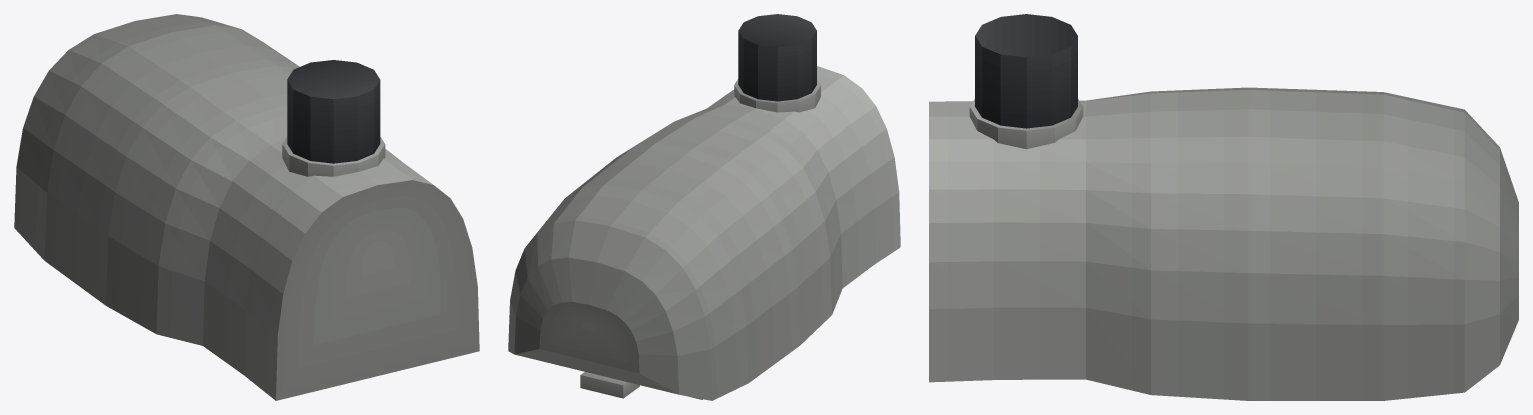
The model's file is streetlight_ae115cu.obj.
3 views of the same model, side by side, from view 1: azimuth 30°, elevation 25°; view 2: azimuth 150°, elevation 25°; view 3: azimuth 270°, elevation 25° (orthographic). The views are drawn at different scales.
Parts seen in each view (by area): view 1: fixture; view 2: fixture; view 3: fixture.
Boxes of the visible parts, x1,y1,x2,y2 form: fixture: (14, 14, 479, 400); fixture: (508, 14, 900, 400); fixture: (929, 14, 1518, 400).
Size of the model in its own units: 0.375 by 0.3906 by 0.6812.
